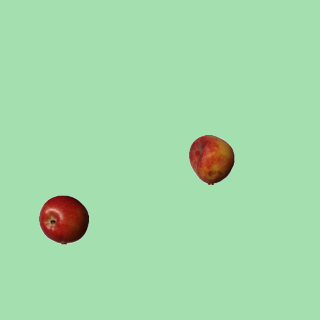Apple Braeburn: (38, 194, 88, 244)
Peach: (186, 134, 236, 184)
